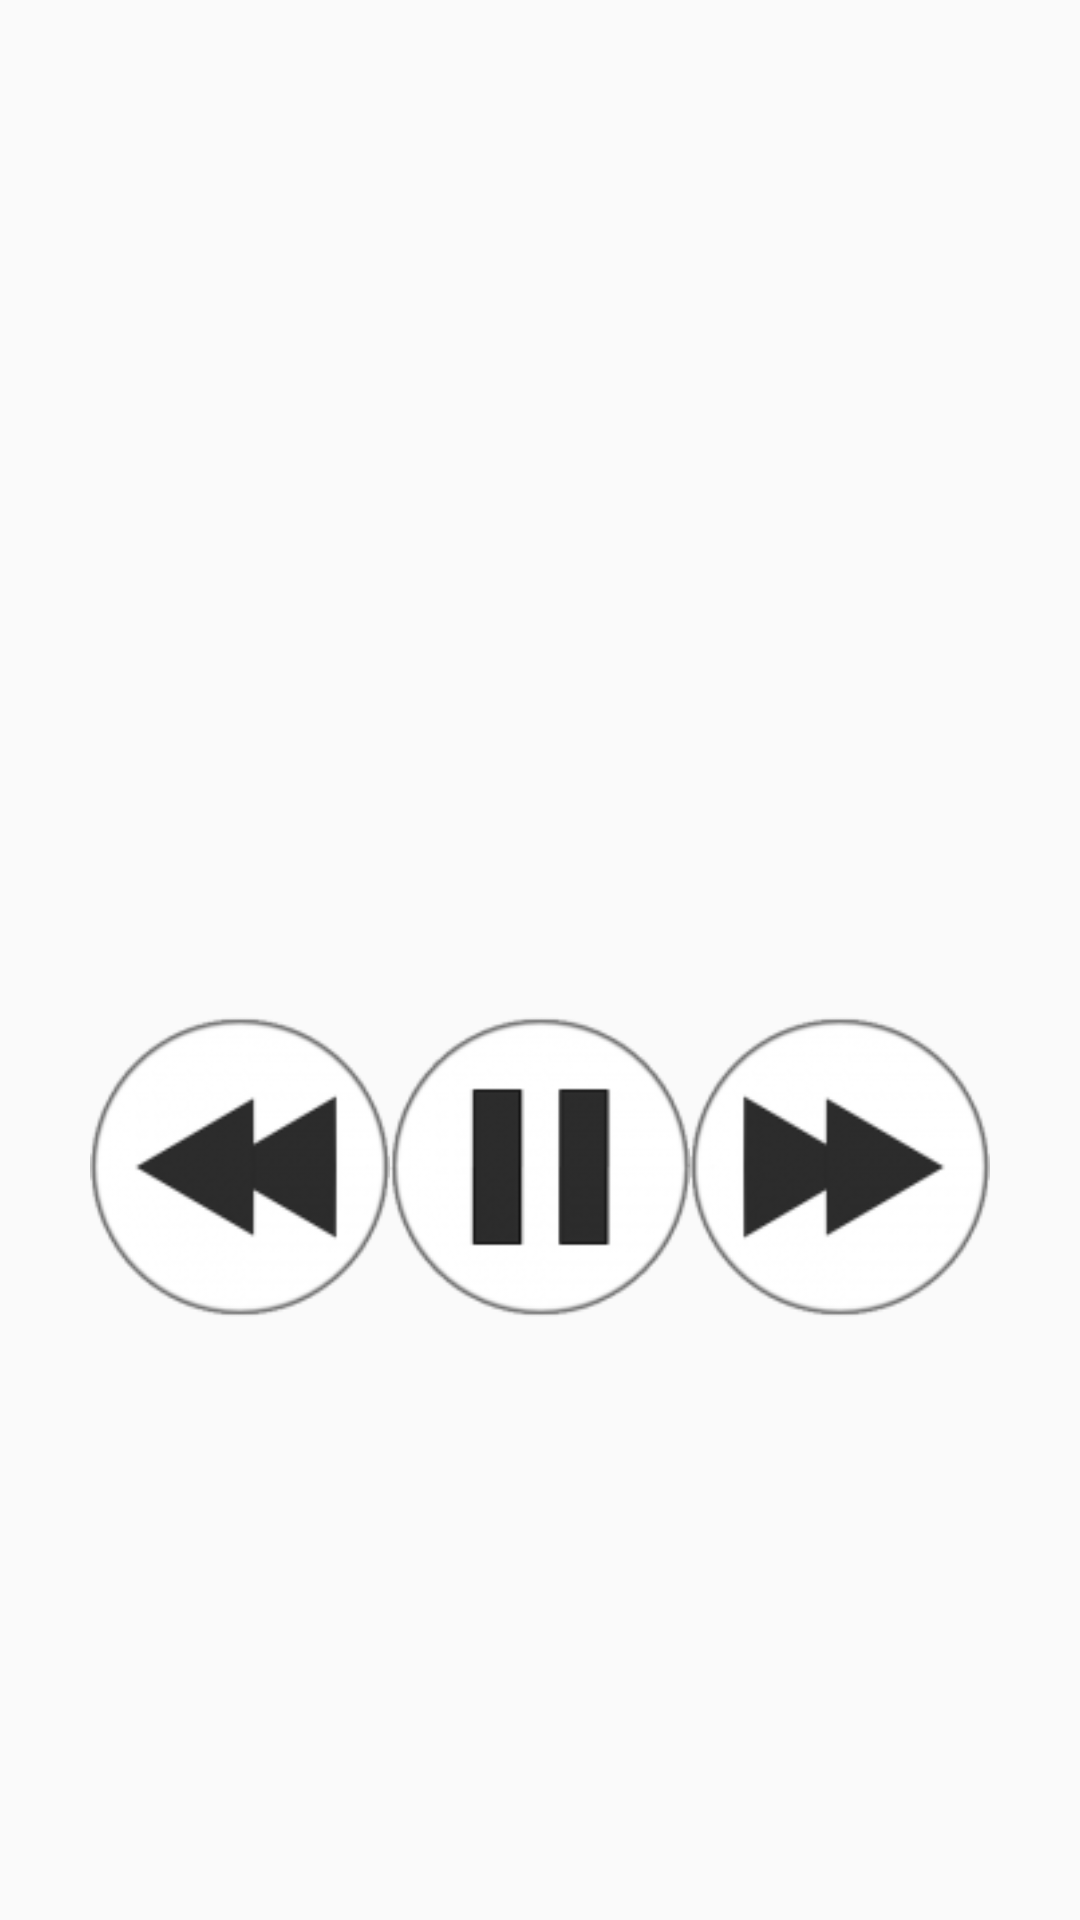

Named icons in this screenshot (1080px x 1920px) and their bounding boxes, (x1, y1, x2, y2):
arrow left: (90, 1019, 390, 1315)
arrow right: (743, 1096, 944, 1238)
pause: (471, 1088, 610, 1246)
